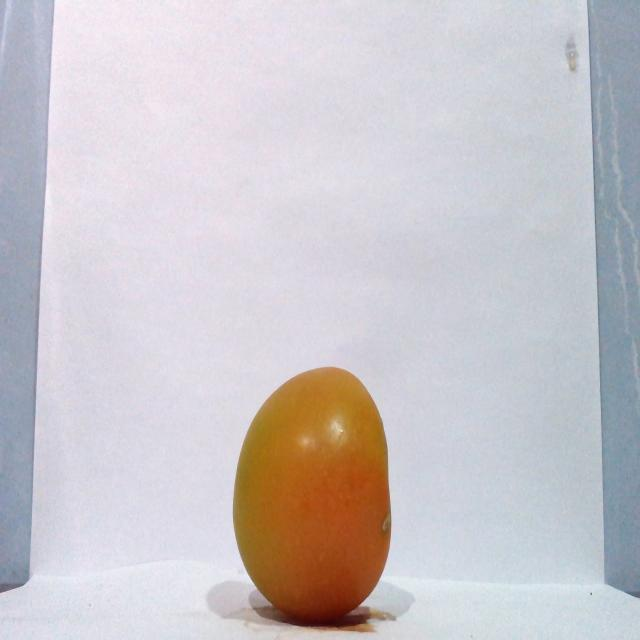Red: (231, 364, 392, 624)
